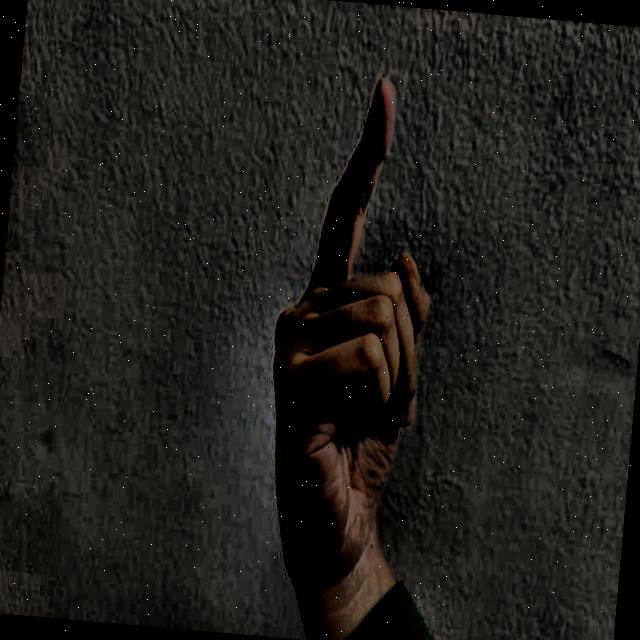U: (232, 48, 461, 587)
